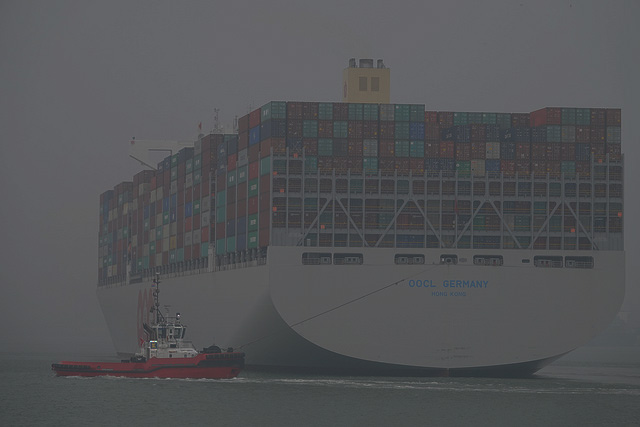container_ship: (96, 58, 626, 388)
tug_boat: (48, 271, 245, 380)
